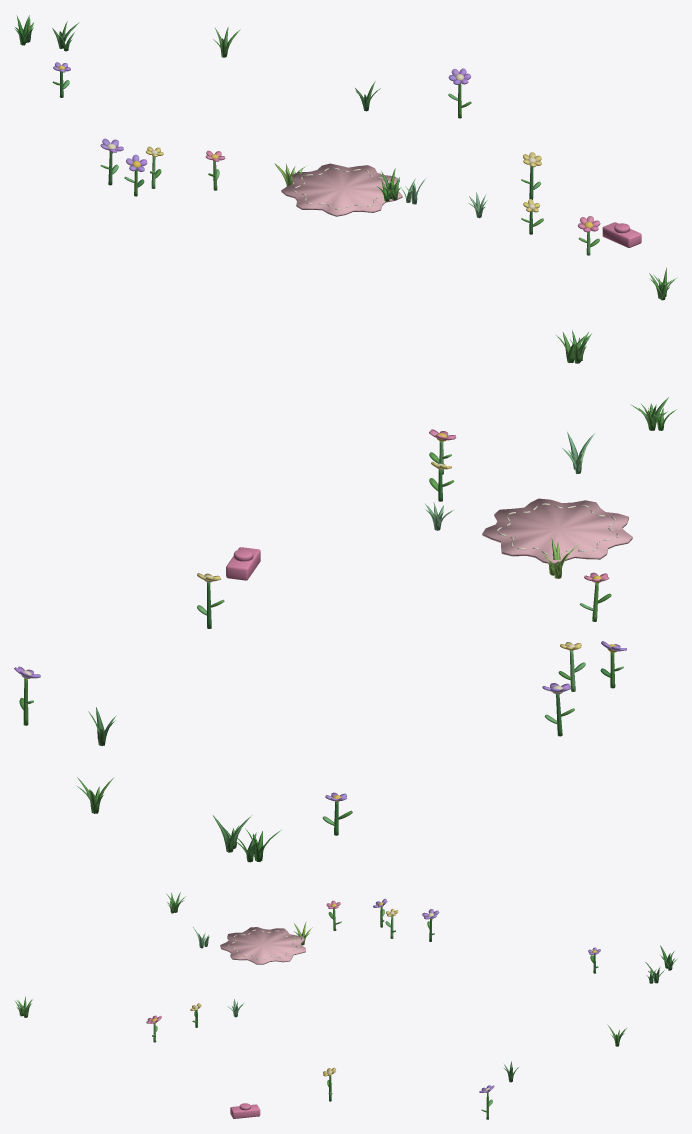
Rendered from W1_FloraRing_7_9.fbx.
The picture shows the model from 3 angles, top to bottom: view 1: azimuth 30°, elevation 25°; view 2: azimuth 150°, elevation 25°; view 3: azimuth 270°, elevation 25°; orthographic projection. The views are drawn at different scales.
Parts seen in each view (by area): view 1: W1_FloraRing_7_9; view 2: W1_FloraRing_7_9; view 3: W1_FloraRing_7_9.
Part boxes in pixels (left/top/right/bottom): W1_FloraRing_7_9: left=14, top=15, right=677, bottom=300; W1_FloraRing_7_9: left=14, top=330, right=676, bottom=862; W1_FloraRing_7_9: left=14, top=892, right=677, bottom=1119.
Bounding box in the file's own units: 2.07 × 0.8287 × 3.98.
